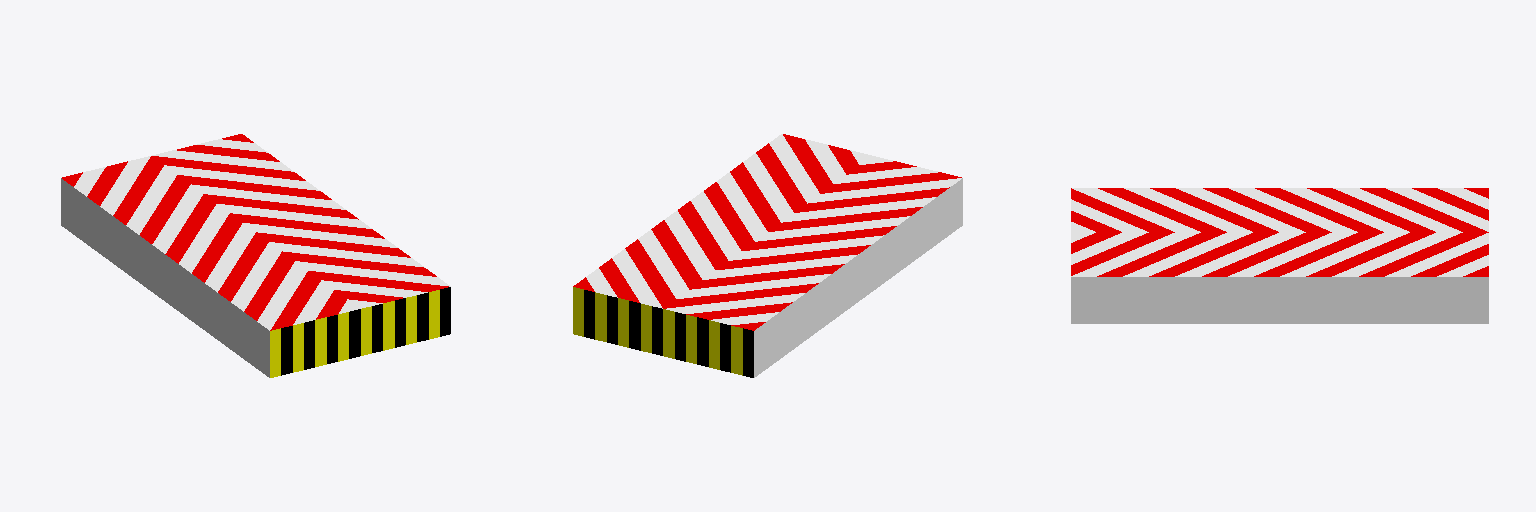
The model's file is ramp.obj.
The picture shows the model from 3 angles: view 1: azimuth 30°, elevation 25°; view 2: azimuth 150°, elevation 25°; view 3: azimuth 270°, elevation 25°; orthographic projection.
Visible parts, largest first — view 1: cube1; view 2: cube1; view 3: cube1.
Boxes of the visible parts, <box> form: cube1: <box>61,134,450,377</box>; cube1: <box>573,134,962,377</box>; cube1: <box>1071,188,1488,323</box>.
Bounding box in the file's own units: 8 × 2 × 16.